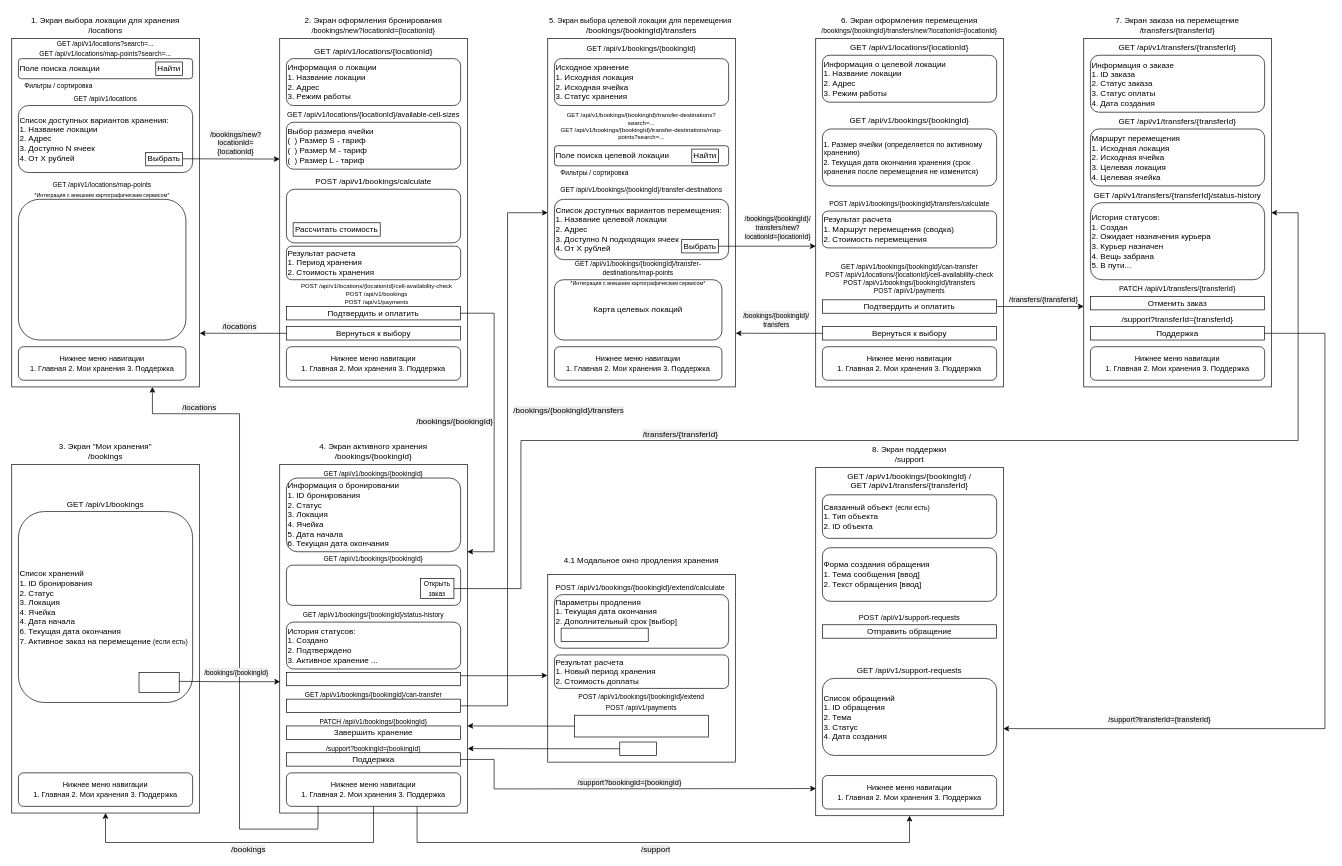
The diagram is 1342 pixels wide and 866 high, and some of its shapes have lost their labels. Each missing label, with the box of its shape:
Активное перемещение (если есть) 1. ID заказа на перемещение 2. Текущий статус: (286, 564, 461, 605)
Карта локаций: (18, 199, 186, 340)
Открыть: (138, 672, 179, 692)
Отмена: (619, 741, 657, 755)
Оформить перемещение: (286, 698, 461, 713)
Параметры бронирования 1. Дата начала [выбор] 2. Длительность хранения [выбор]: (286, 189, 461, 243)
Подтвердить и оплатить продление: (574, 715, 709, 737)
Продлить хранение: (286, 672, 461, 686)
Рассчитать доплату: (560, 627, 648, 642)
